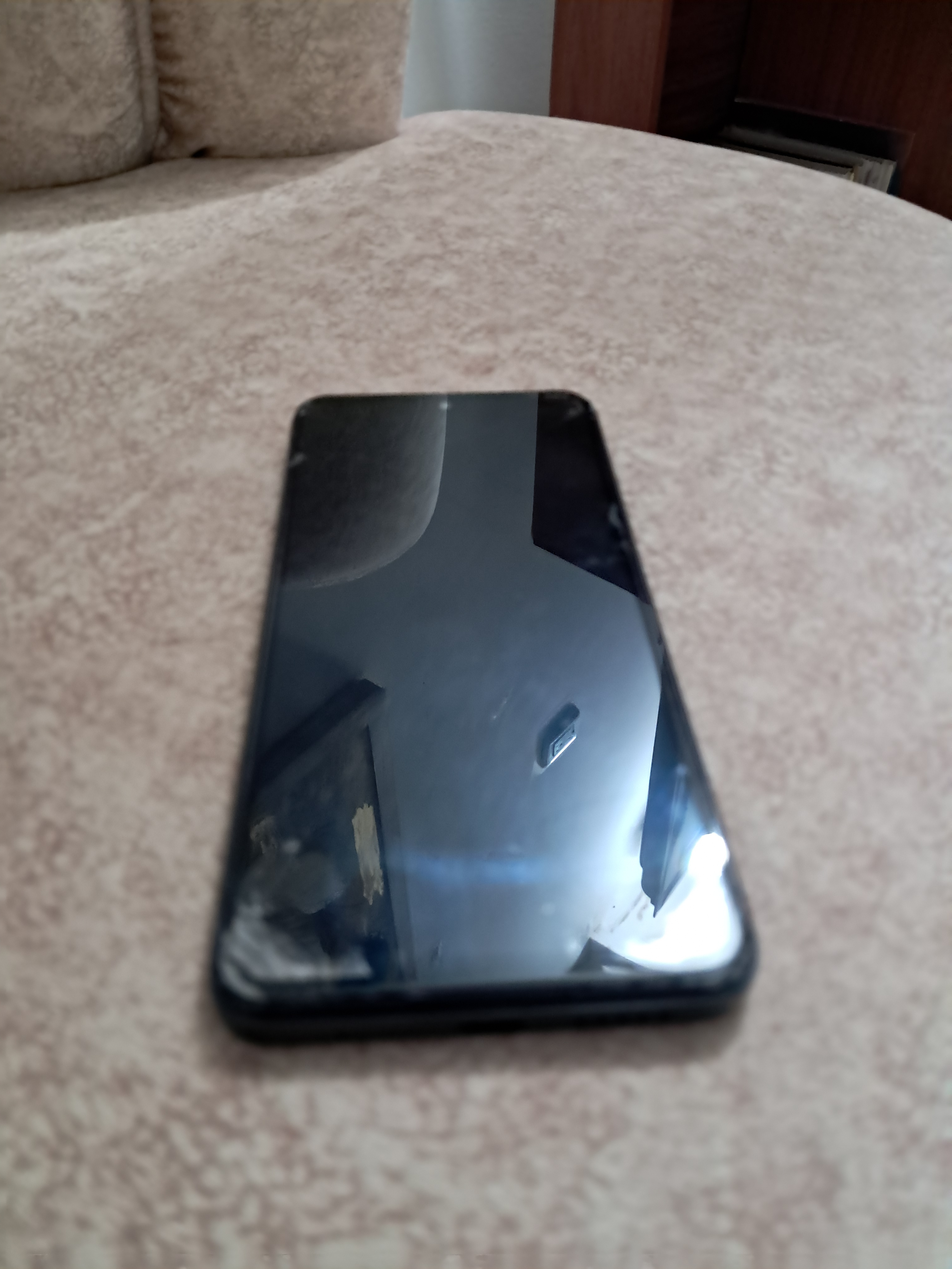phone: (211, 390, 757, 1041)
